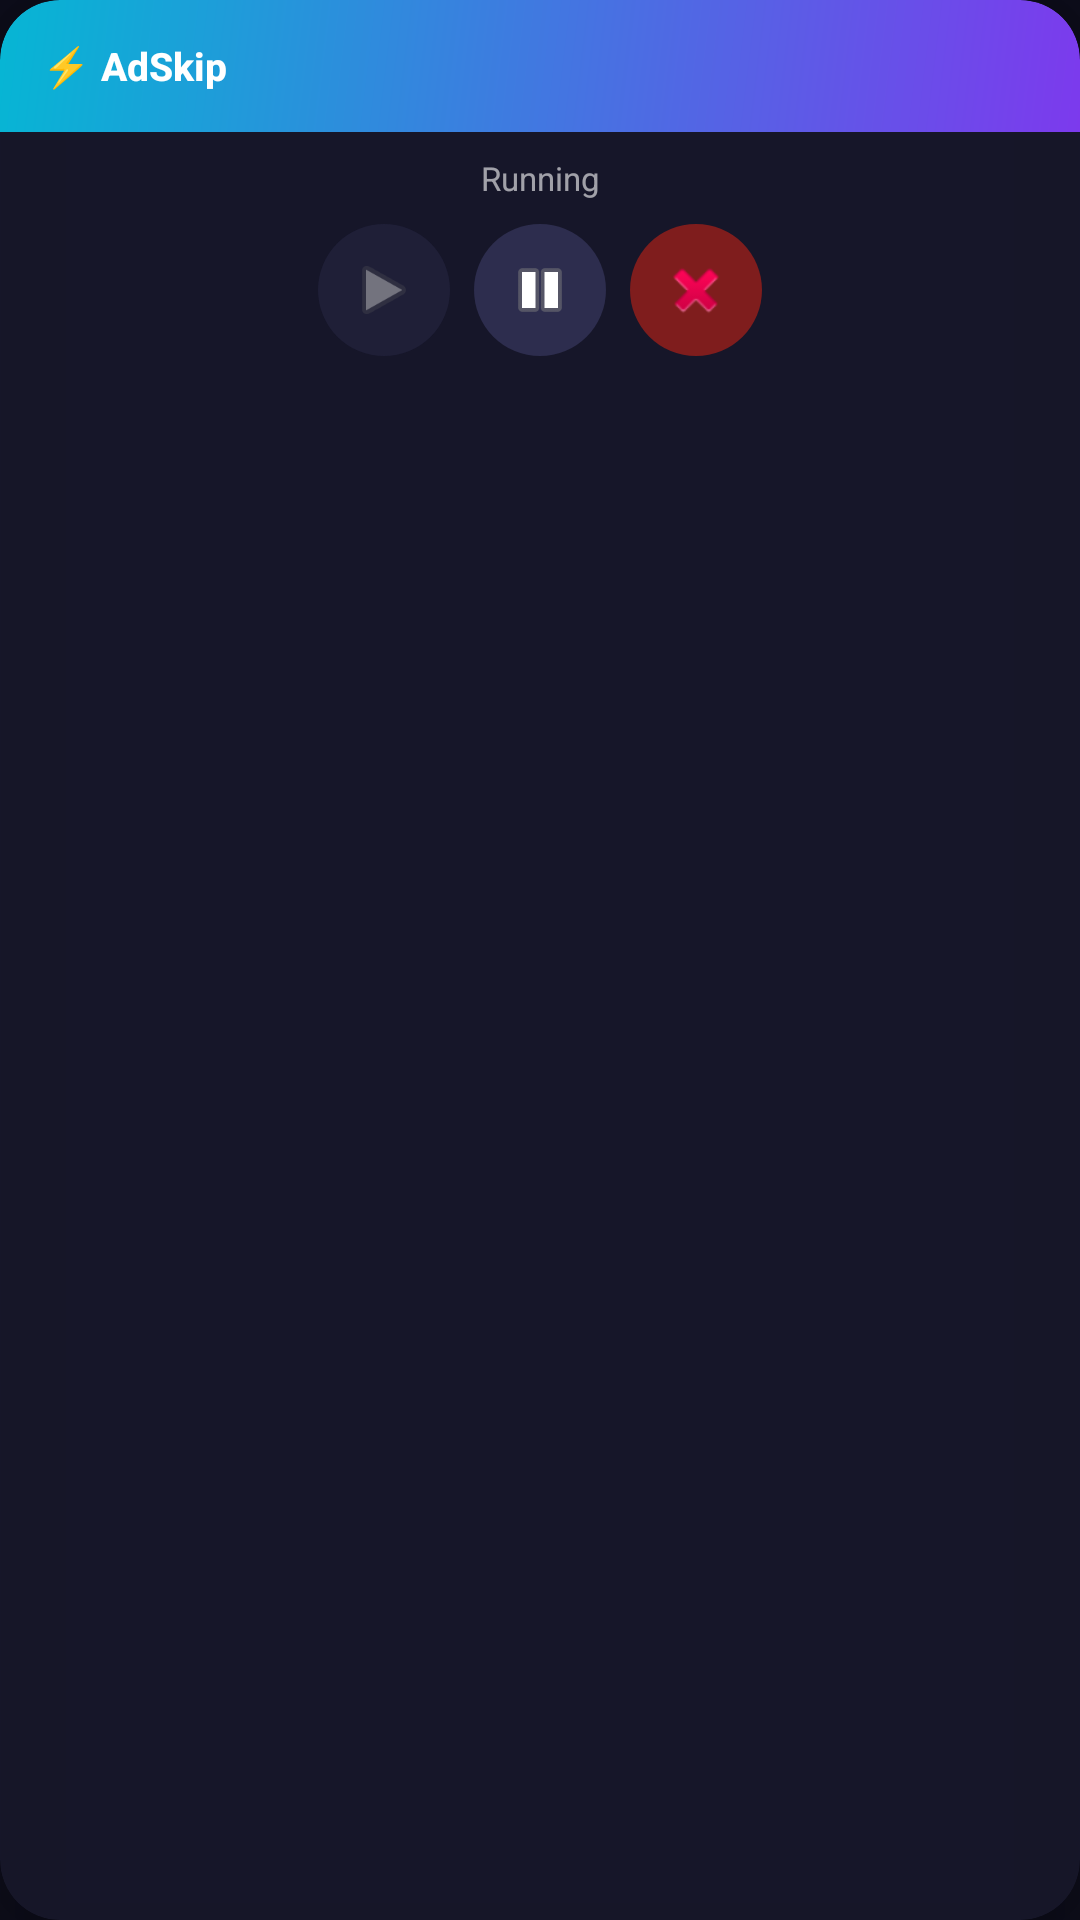

Where to tap for icons on this 1080*1920 app screen, as [x,y]:
Pause: [540,290]
Start: [384,290]
Stop: [696,290]
